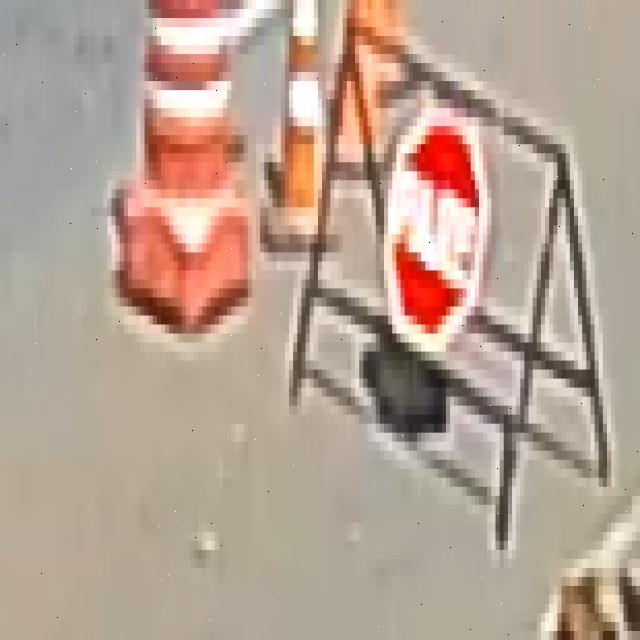big_cone: (136, 0, 239, 288)
small_cone: (278, 0, 324, 214)
stop_sign: (380, 99, 495, 361)
